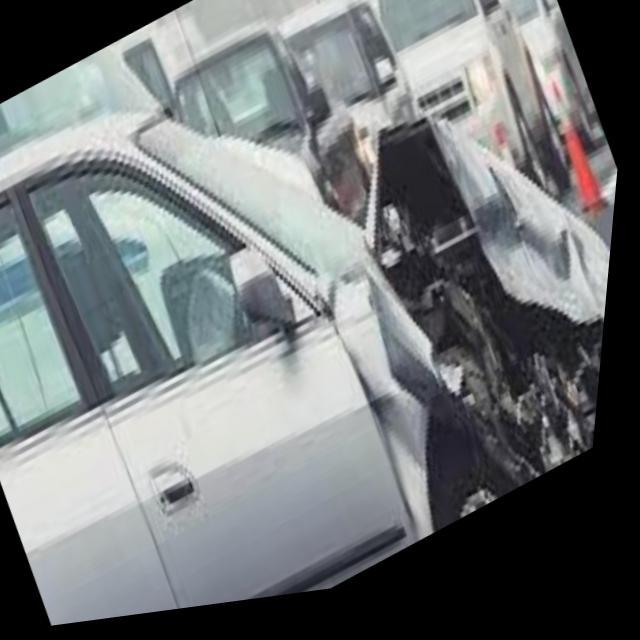crash: (336, 128, 616, 556)
